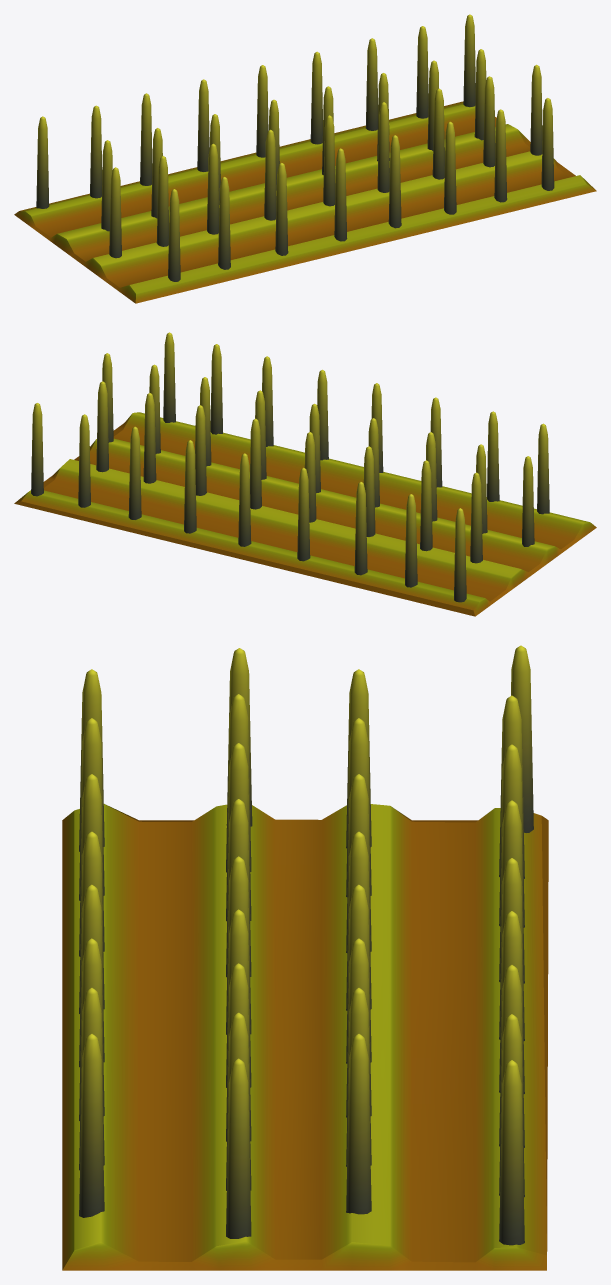
Rendered from Farm_field.fbx.
The picture shows the model from 3 angles, top to bottom: view 1: azimuth 30°, elevation 25°; view 2: azimuth 150°, elevation 25°; view 3: azimuth 270°, elevation 25°; orthographic projection. The views are drawn at different scales.
Parts seen in each view (by area): view 1: Farm_Field, pasted__Bean; view 2: Farm_Field, pasted__Bean; view 3: Farm_Field, pasted__Bean.
Boxes of the visible parts, bbox=[...] form: Farm_Field: bbox=[14, 101, 596, 303]; pasted__Bean: bbox=[36, 14, 554, 281]; Farm_Field: bbox=[14, 412, 596, 616]; pasted__Bean: bbox=[31, 332, 549, 602]; Farm_Field: bbox=[62, 804, 548, 1270]; pasted__Bean: bbox=[79, 645, 533, 1245].
Bounding box in the file's own units: 31.61 × 6.43 × 14.43.
1 material, 1 textured.
